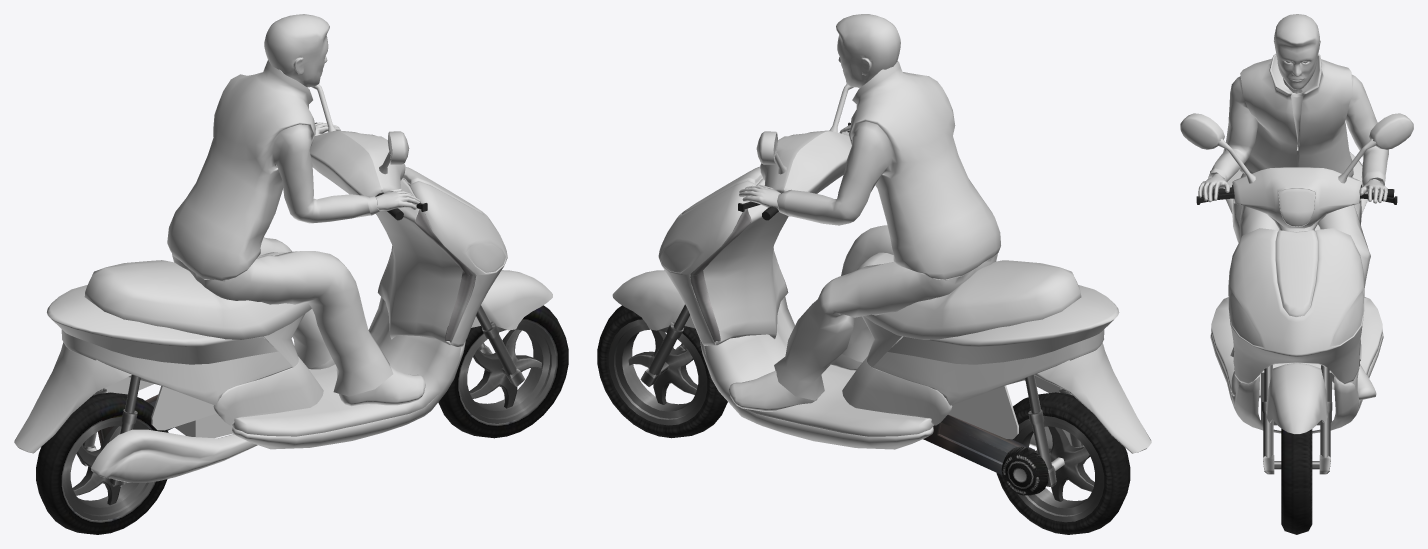
The model's file is diandongche.glb.
The picture shows the model from 3 angles, left to right: view 1: azimuth 30°, elevation 25°; view 2: azimuth 150°, elevation 25°; view 3: azimuth 270°, elevation 25°; orthographic projection. The views are drawn at different scales.
Parts seen in each view (by area): view 1: motorcycle, man; view 2: motorcycle, man; view 3: motorcycle, man.
Part boxes in pixels (x1=…): motorcycle: x1=14, y1=84, x2=568, y2=534; man: x1=167, y1=14, x2=425, y2=406; motorcycle: x1=597, y1=60, x2=1151, y2=534; man: x1=728, y1=14, x2=1000, y2=411; motorcycle: x1=1180, y1=113, x2=1413, y2=534; man: x1=1198, y1=14, x2=1388, y2=400.
Bounding box in the file's own units: 2.23 × 1.81 × 0.9113.
2 materials, 1 textured.
